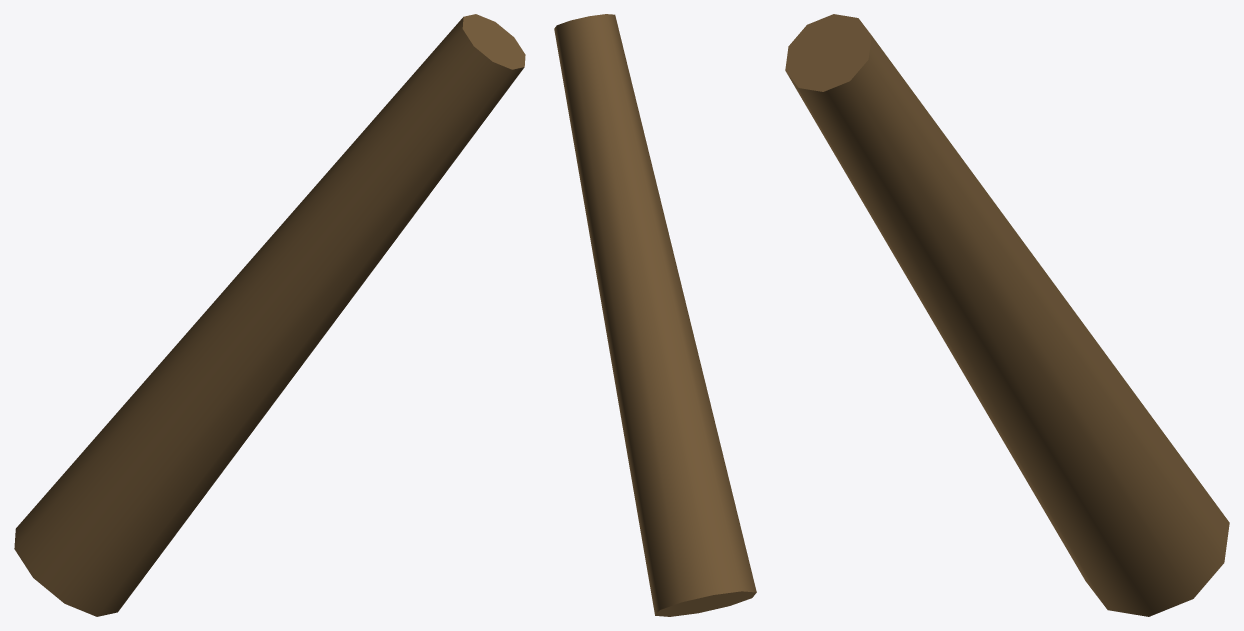
The model's file is branch-ne.glb.
3 renders of one model, left to right at view 1: azimuth 30°, elevation 25°; view 2: azimuth 150°, elevation 25°; view 3: azimuth 270°, elevation 25°, orthographic. The views are drawn at different scales.
Parts seen in each view (by area): view 1: Branch ne; view 2: Branch ne; view 3: Branch ne.
Boxes of the visible parts, x1=… form: Branch ne: x1=14, y1=14, x2=525, y2=616; Branch ne: x1=554, y1=14, x2=756, y2=616; Branch ne: x1=785, y1=14, x2=1229, y2=616.
Size of the model in its own units: 15.57 by 24.8 by 13.63.
